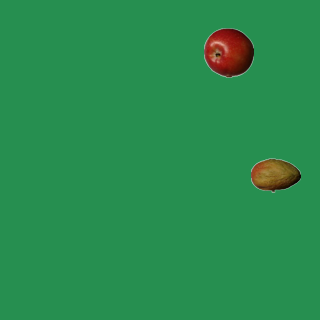Apple Braeburn: (203, 27, 253, 77)
Papaya: (250, 150, 300, 200)
